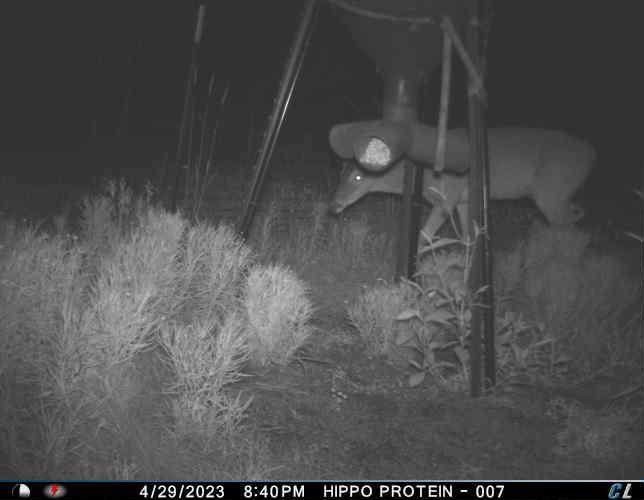Deer: (324, 123, 601, 259)
